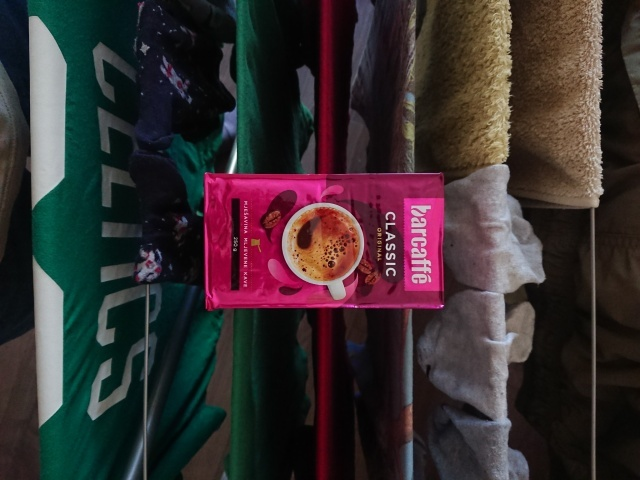Barcaffe Classic Original 225g: (201, 171, 447, 312)
